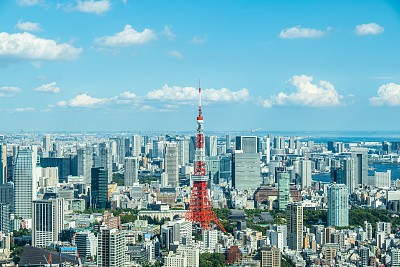Tokyo: (180, 79, 226, 235)
